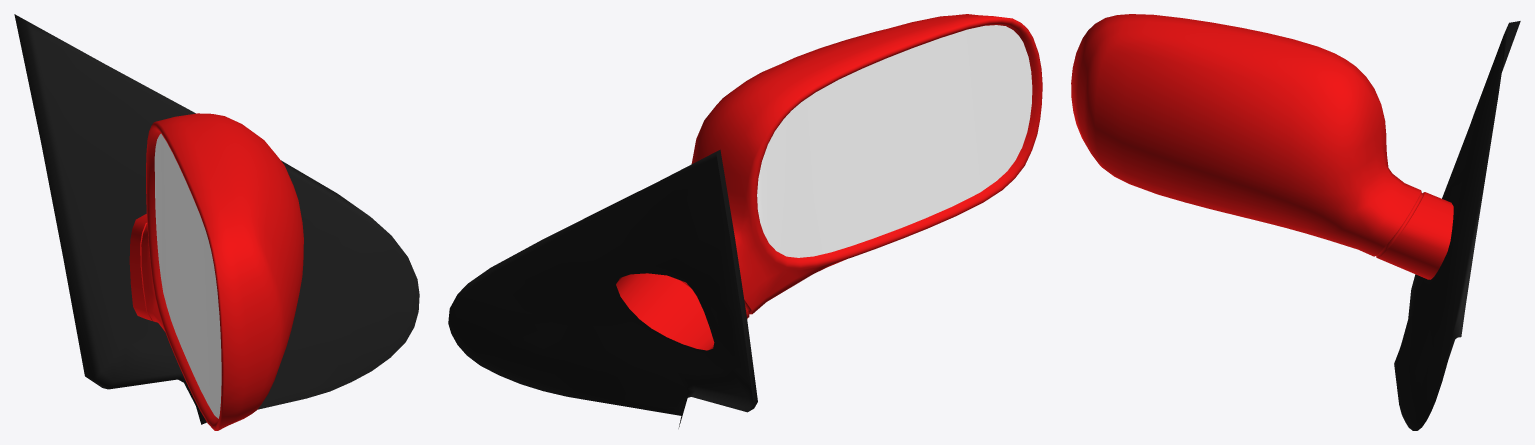
The picture shows the model from 3 angles, left to right: view 1: azimuth 30°, elevation 25°; view 2: azimuth 150°, elevation 25°; view 3: azimuth 270°, elevation 25°; orthographic projection. The views are drawn at different scales.
Visible parts, largest first — view 1: N664_9A_281I_R_N664_9A_281I_R_3_D, N664_9A_281I_R_N664_9A_281I_R_1_DaS, N664_9A_281I_R_2_DTaSI_N664_9A_281I_R; view 2: N664_9A_281I_R_N664_9A_281I_R_3_D, N664_9A_281I_R_2_DTaSI_N664_9A_281I_R, N664_9A_281I_R_N664_9A_281I_R_1_DaS; view 3: N664_9A_281I_R_N664_9A_281I_R_1_DaS, N664_9A_281I_R_N664_9A_281I_R_3_D.
Boxes of the visible parts, x1,y1,x2,y2 form: N664_9A_281I_R_N664_9A_281I_R_3_D: (14,14,419,424); N664_9A_281I_R_N664_9A_281I_R_1_DaS: (129,113,303,430); N664_9A_281I_R_2_DTaSI_N664_9A_281I_R: (154,133,221,418); N664_9A_281I_R_N664_9A_281I_R_3_D: (448,149,757,428); N664_9A_281I_R_2_DTaSI_N664_9A_281I_R: (757,25,1032,257); N664_9A_281I_R_N664_9A_281I_R_1_DaS: (616,14,1042,350); N664_9A_281I_R_N664_9A_281I_R_1_DaS: (1071,14,1453,279); N664_9A_281I_R_N664_9A_281I_R_3_D: (1394,21,1520,430).
Bounding box in the file's own units: 27.98 × 24.25 × 32.42.
